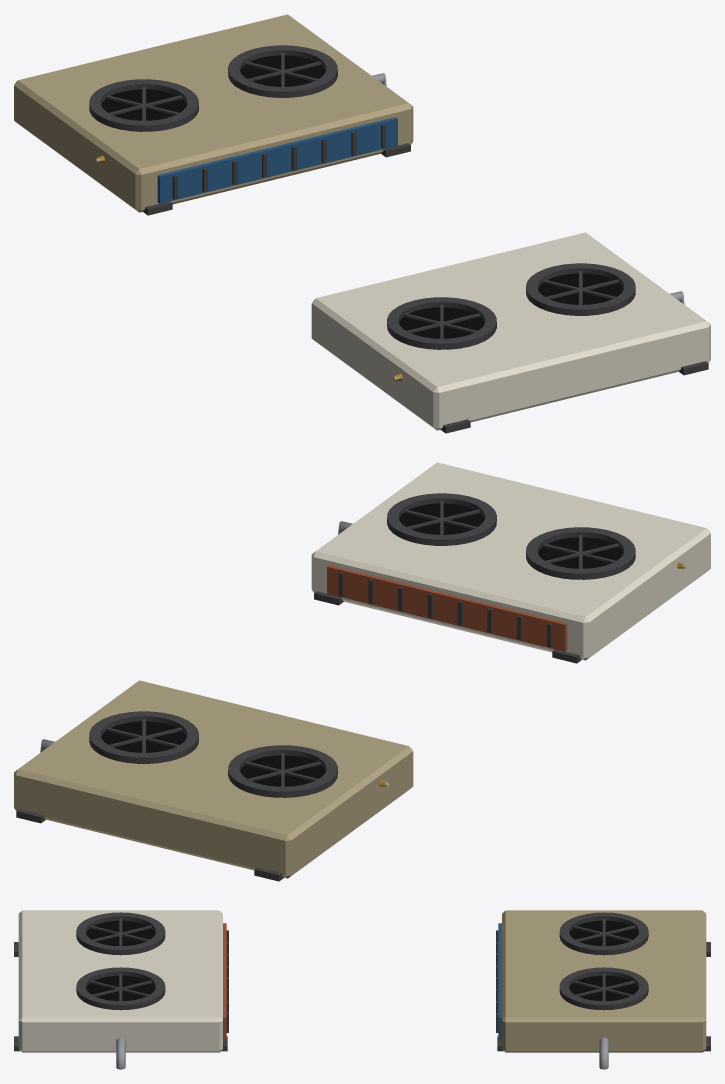
Rendered from pax100_climate.obj.
The picture shows the model from 3 angles, top to bottom: view 1: azimuth 30°, elevation 25°; view 2: azimuth 150°, elevation 25°; view 3: azimuth 270°, elevation 25°; orthographic projection. The views are drawn at different scales.
Parts seen in each view (by area): view 1: pax100_climate; view 2: pax100_climate; view 3: pax100_climate.
Boxes of the visible parts, x1=… form: pax100_climate: x1=14, y1=14, x2=710, y2=433; pax100_climate: x1=14, y1=462, x2=710, y2=881; pax100_climate: x1=14, y1=910, x2=710, y2=1069.
Size of the model in its own units: 3.22 by 0.5 by 7.5.
